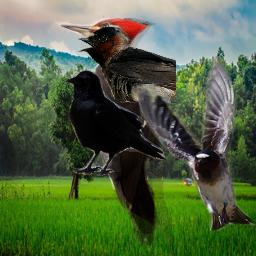Crow: (63, 69, 169, 176)
Swallow: (137, 56, 256, 231), (77, 26, 176, 104)
Woodpecker: (55, 18, 175, 246)
